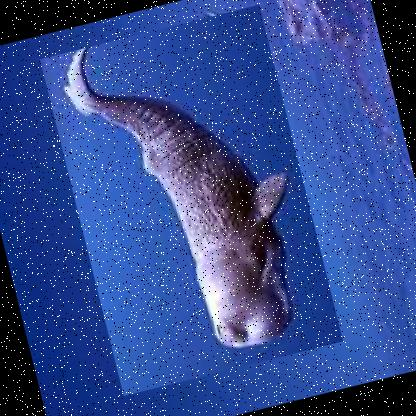sperm_whale: (38, 5, 342, 398)
